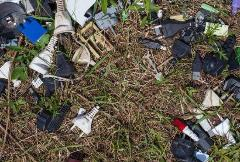electronic: (28, 1, 108, 142)
